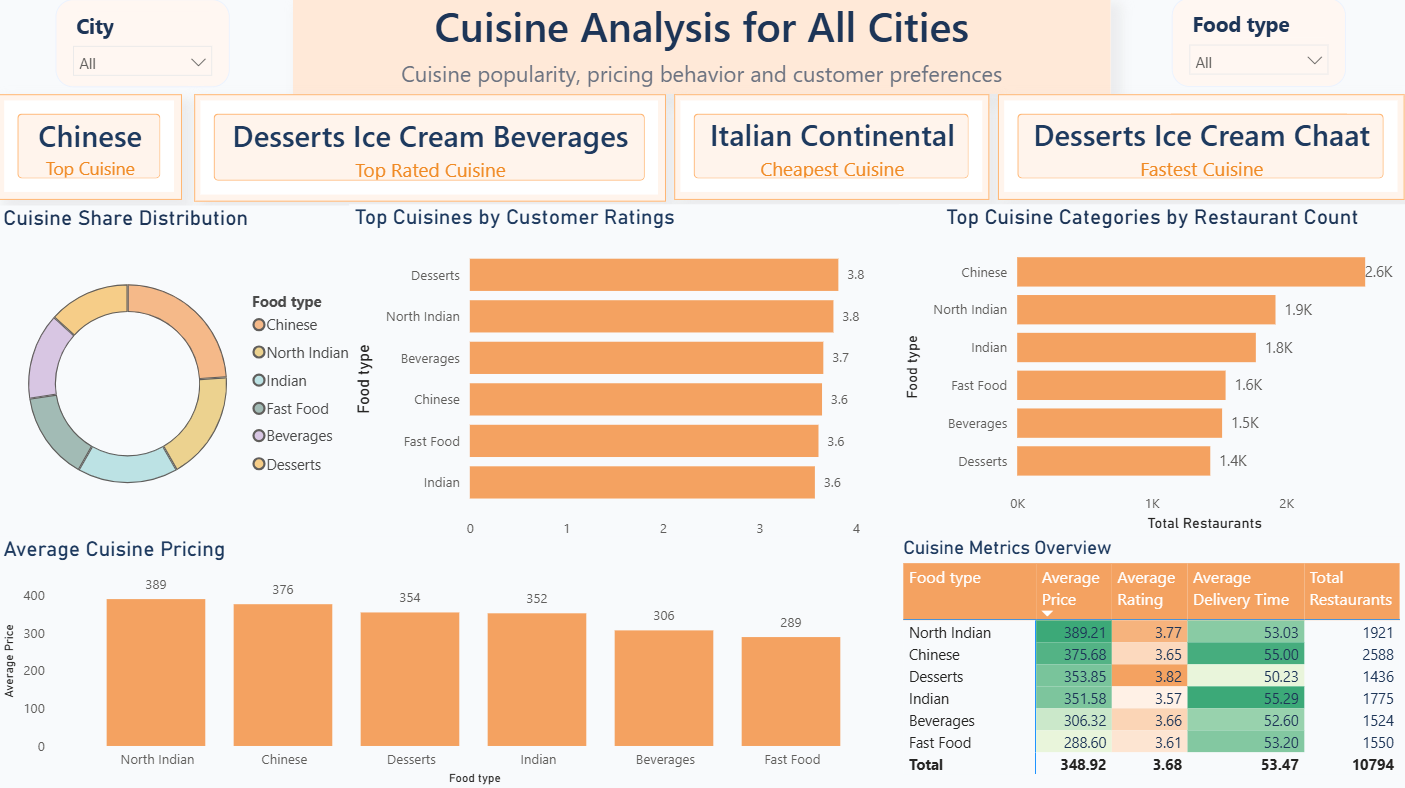

The page's visual inventory and layout, read from the dashboard file:
{"tool":"powerbi","page":{"name":"Cuisine Analysis","canvas":[1280,720],"ordinal":3},"visuals":[{"type":"textbox","box":[267.8,0,743.2,86.9],"z":0},{"type":"slicer","fields":{"Values":["Swiggy_Data.City"]},"box":[51.9,1.2,158,79.6],"z":1000},{"type":"cardVisual","fields":{"Data":["Swiggy_Data.Top Cuisine"]},"box":[0,87.9,167,95.7],"z":2000},{"type":"cardVisual","fields":{"Data":["Swiggy_Data.Most Popular Cuisine"]},"box":[178.1,87.9,428.6,98],"z":3000},{"type":"cardVisual","fields":{"Data":["Swiggy_Data.Most Affordable Cuisine"]},"box":[615,87.9,286.1,95.7],"z":4000},{"type":"cardVisual","fields":{"Data":["Swiggy_Data.Fastest Delivery Cuisine"]},"box":[909.5,87.9,369.6,95.7],"z":5000},{"type":"donutChart","title":"Cuisine Share Distribution","fields":{"Category":["Swiggy_Data.Food type"],"Y":["Swiggy_Data.Total Restaurants"]},"box":[0,188.2,333,302.8],"z":6000},{"type":"clusteredBarChart","title":"Top Cuisines by Customer Ratings","fields":{"Category":["Swiggy_Data.Food type"],"Y":["Swiggy_Data.Average Rating"]},"box":[319.5,187.9,547.3,326.5],"z":7000},{"type":"clusteredBarChart","title":"Top Cuisine Categories by Restaurant Count","fields":{"Category":["Swiggy_Data.Food type"],"Y":["Swiggy_Data.Total Restaurants"]},"box":[819.8,187.9,460.4,301.9],"z":8000},{"type":"clusteredColumnChart","title":"Average Cuisine Pricing","fields":{"Category":["Swiggy_Data.Food type"],"Y":["Swiggy_Data.Average Price"]},"box":[0,489.8,819.8,230.2],"z":9000},{"type":"slicer","fields":{"Values":["Swiggy_Data.Food type"]},"box":[1066.5,0,158,80.8],"z":10000},{"type":"pivotTable","title":"Cuisine Metrics Overview","fields":{"Rows":["Swiggy_Data.Food type"],"Values":["Swiggy_Data.Average Price","Swiggy_Data.Average Rating","Swiggy_Data.Average Delivery Time","Swiggy_Data.Total Restaurants"]},"box":[818.6,489.8,461.6,230.2],"z":11000}]}

Visuals, with their boxes in screenshot pixels (x1, y1, x2, y2), scaled from the page's 1280x720 canvas onto the 1405x788 screenshot:
textbox: BBox(294, 0, 1110, 95)
slicer - Swiggy_Data.City: BBox(57, 1, 230, 88)
cardVisual - Swiggy_Data.Top Cuisine: BBox(0, 96, 183, 201)
cardVisual - Swiggy_Data.Most Popular Cuisine: BBox(195, 96, 666, 203)
cardVisual - Swiggy_Data.Most Affordable Cuisine: BBox(675, 96, 989, 201)
cardVisual - Swiggy_Data.Fastest Delivery Cuisine: BBox(998, 96, 1404, 201)
"Cuisine Share Distribution" donutChart: BBox(0, 206, 366, 537)
"Top Cuisines by Customer Ratings" clusteredBarChart: BBox(351, 206, 951, 563)
"Top Cuisine Categories by Restaurant Count" clusteredBarChart: BBox(900, 206, 1404, 536)
"Average Cuisine Pricing" clusteredColumnChart: BBox(0, 536, 900, 787)
slicer - Swiggy_Data.Food type: BBox(1171, 0, 1344, 88)
"Cuisine Metrics Overview" pivotTable: BBox(899, 536, 1404, 787)
